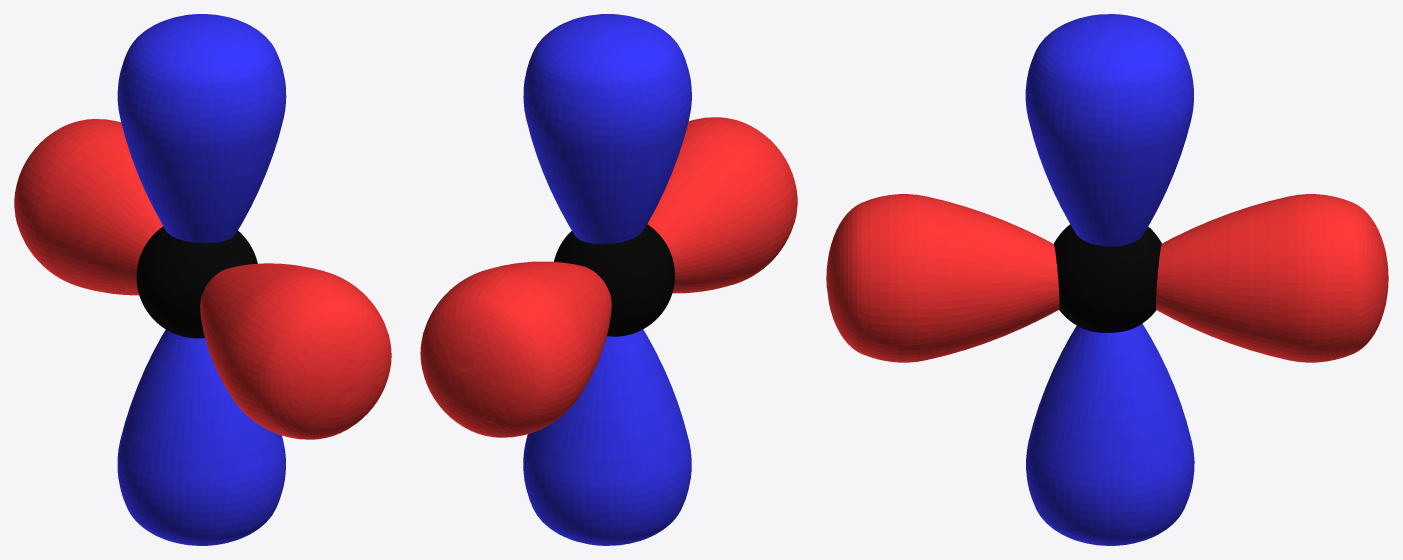
The model's file is 4Orbital_s+pxyz.glb.
The picture shows the model from 3 angles, left to right: view 1: azimuth 30°, elevation 25°; view 2: azimuth 150°, elevation 25°; view 3: azimuth 270°, elevation 25°; orthographic projection.
Visible parts, largest first — view 1: root; view 2: root; view 3: root.
Boxes of the visible parts, x1=… form: root: x1=14, y1=14, x2=391, y2=545; root: x1=420, y1=14, x2=797, y2=545; root: x1=826, y1=14, x2=1388, y2=545.
Size of the model in its own units: 0.3029 by 1.01 by 1.01.
